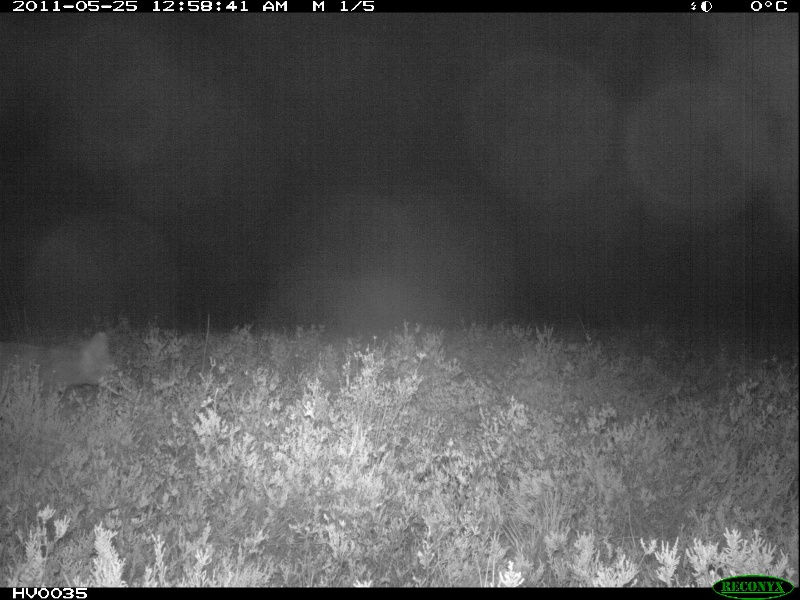fox: (1, 327, 126, 404)
